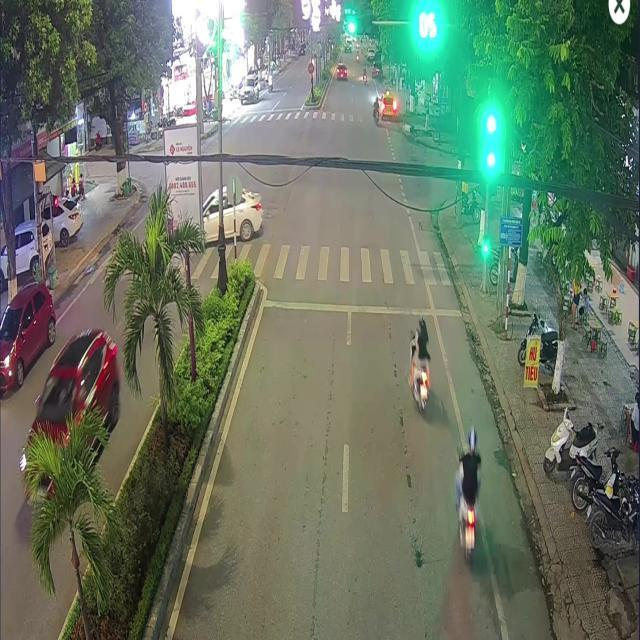car: (202, 184, 262, 242), (380, 92, 395, 116)
green_light: (346, 15, 373, 36), (486, 132, 495, 168), (483, 233, 487, 251)
motobike: (455, 479, 476, 558), (408, 354, 429, 410)
stop_line: (263, 299, 460, 315)
